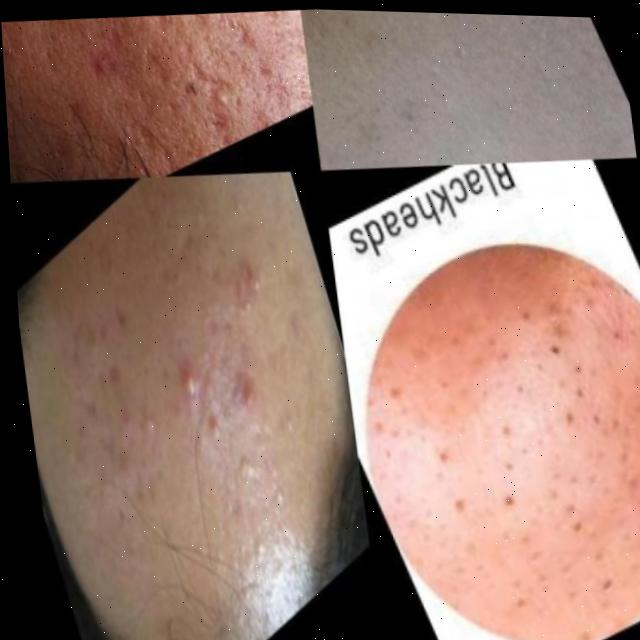Acne: (316, 300, 624, 616), (35, 279, 262, 508), (17, 6, 249, 140), (338, 21, 529, 134)
